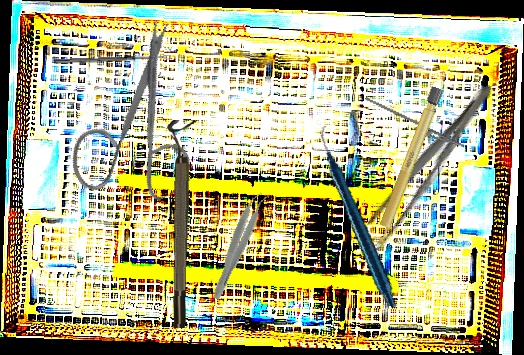Dressing Forceps: (355, 74, 503, 255)
Fixation Ring: (160, 119, 197, 329)
Handpiece: (283, 125, 435, 308)
Iris Scissors: (30, 15, 237, 229)
Needle Holder: (358, 96, 469, 156)
Scalpel Handle: (370, 85, 444, 252)
Surgical Spoon: (53, 54, 172, 65)
Tissue Forceps: (208, 188, 271, 304)
